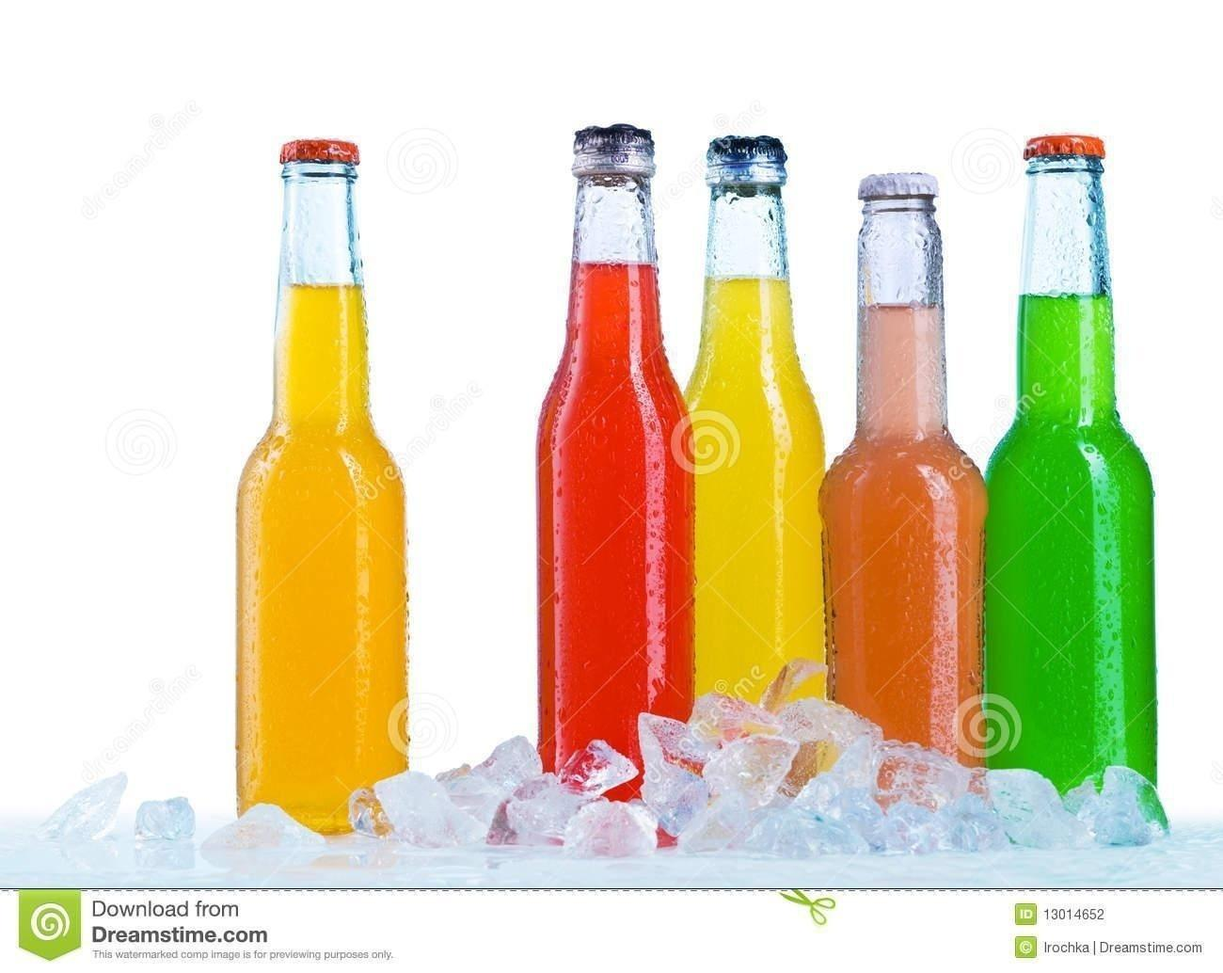bottle-glass: (226, 125, 419, 833), (971, 128, 1167, 809), (523, 114, 707, 803), (810, 167, 994, 759), (674, 136, 833, 707)
